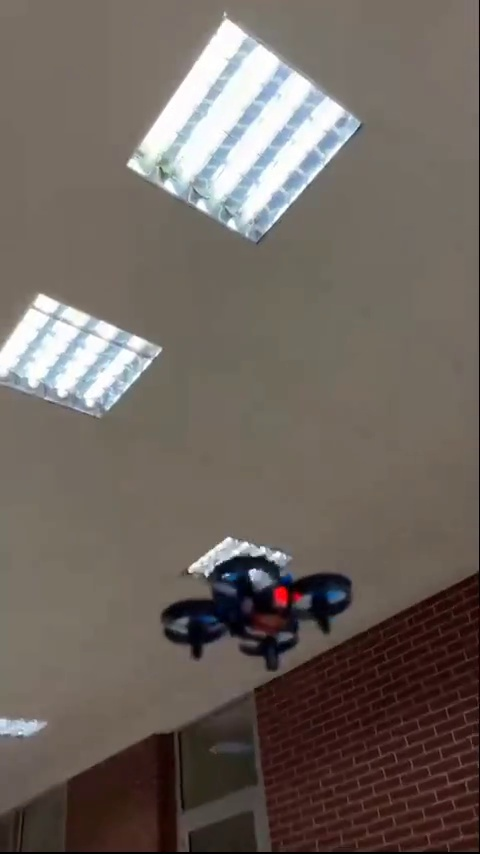drone: (163, 558, 342, 676)
